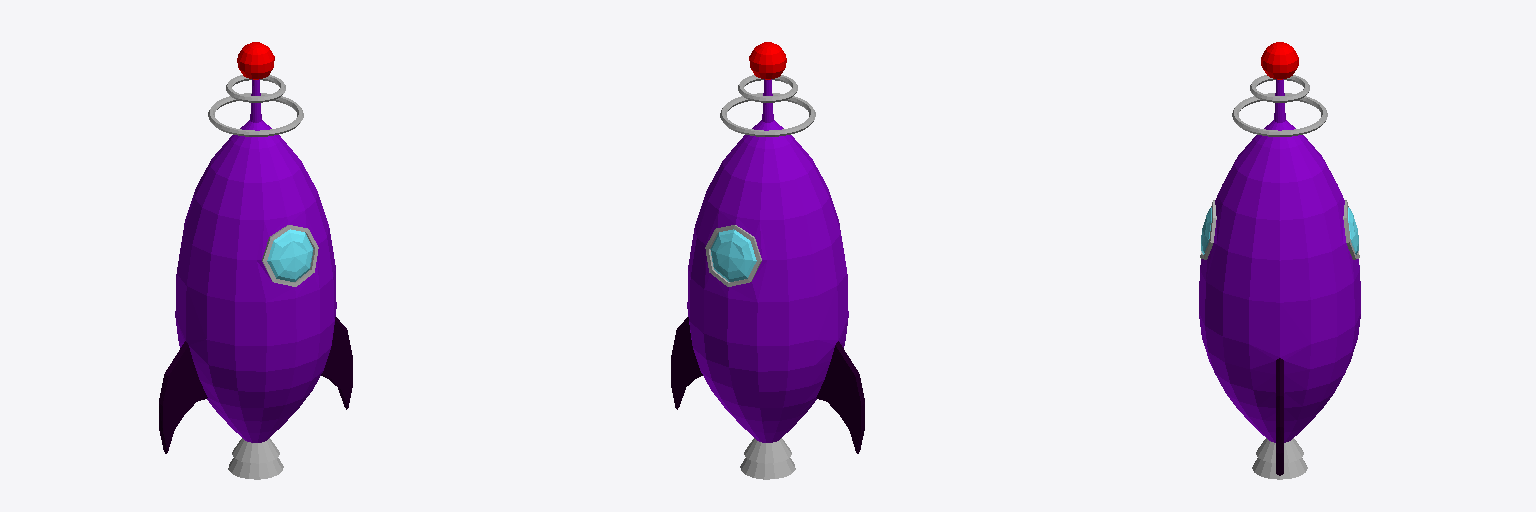
Rendered from PurpleSpaceShip.obj.
3 renders of one model, left to right at view 1: azimuth 30°, elevation 25°; view 2: azimuth 150°, elevation 25°; view 3: azimuth 270°, elevation 25°, orthographic.
Parts seen in each view (by area): view 1: PurpleSpaceShip; view 2: PurpleSpaceShip; view 3: PurpleSpaceShip.
Boxes of the visible parts, <box> form: PurpleSpaceShip: <box>159,42,352,479</box>; PurpleSpaceShip: <box>671,42,864,479</box>; PurpleSpaceShip: <box>1199,42,1360,479</box>.
Size of the model in its own units: 67.72 by 142 by 49.25.